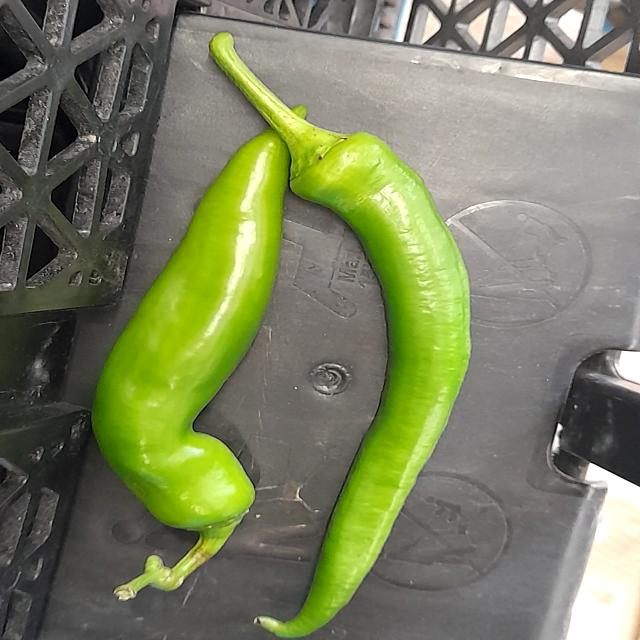green pepper: (88, 84, 332, 598), (255, 88, 479, 640)
